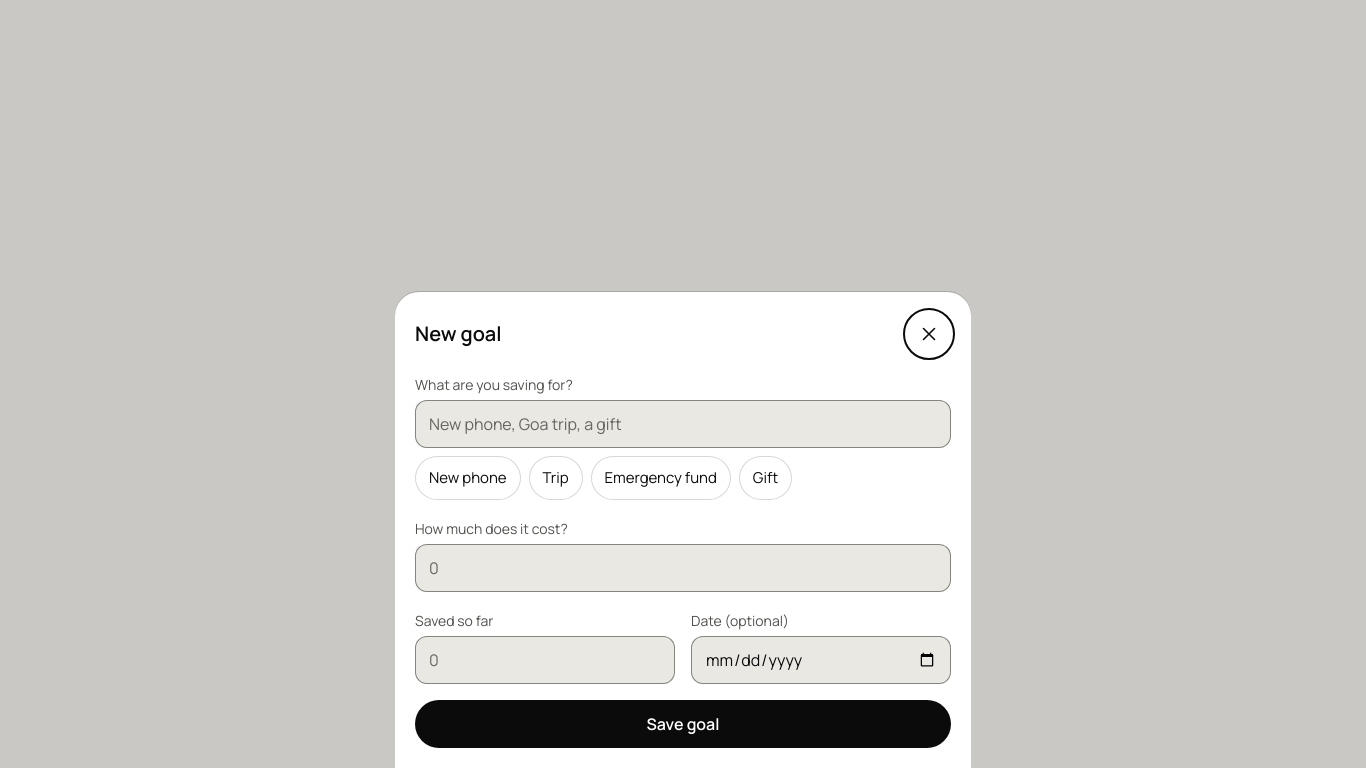
GoalSheet: making a goal › refuses no cost, says why, and saves nothing
This screenshot has width=1366, height=768.
Step 1. Type "Trip" into the field labelled "What are you saving for?" → (683, 424), box [415,400,951,448]
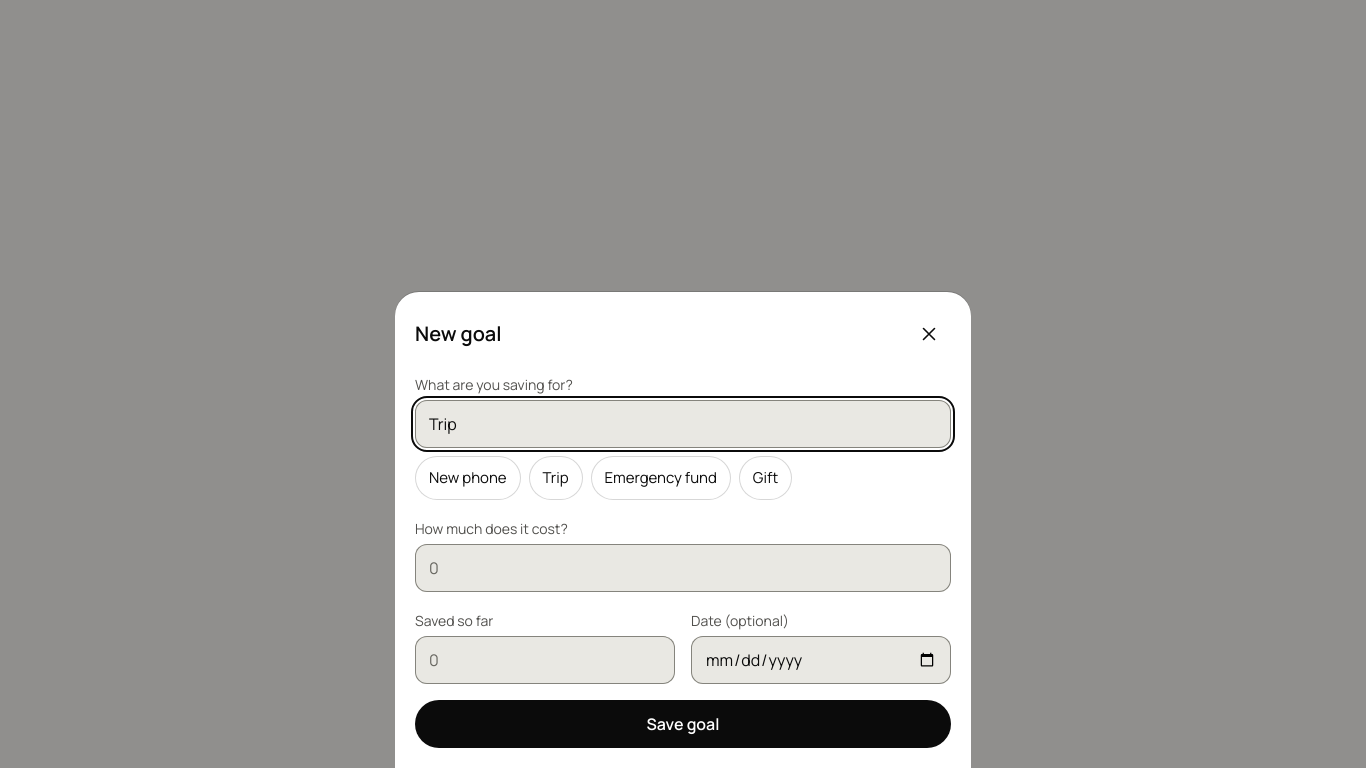
Step 2. Click the button "Save goal" → (683, 724), box [415,700,951,748]
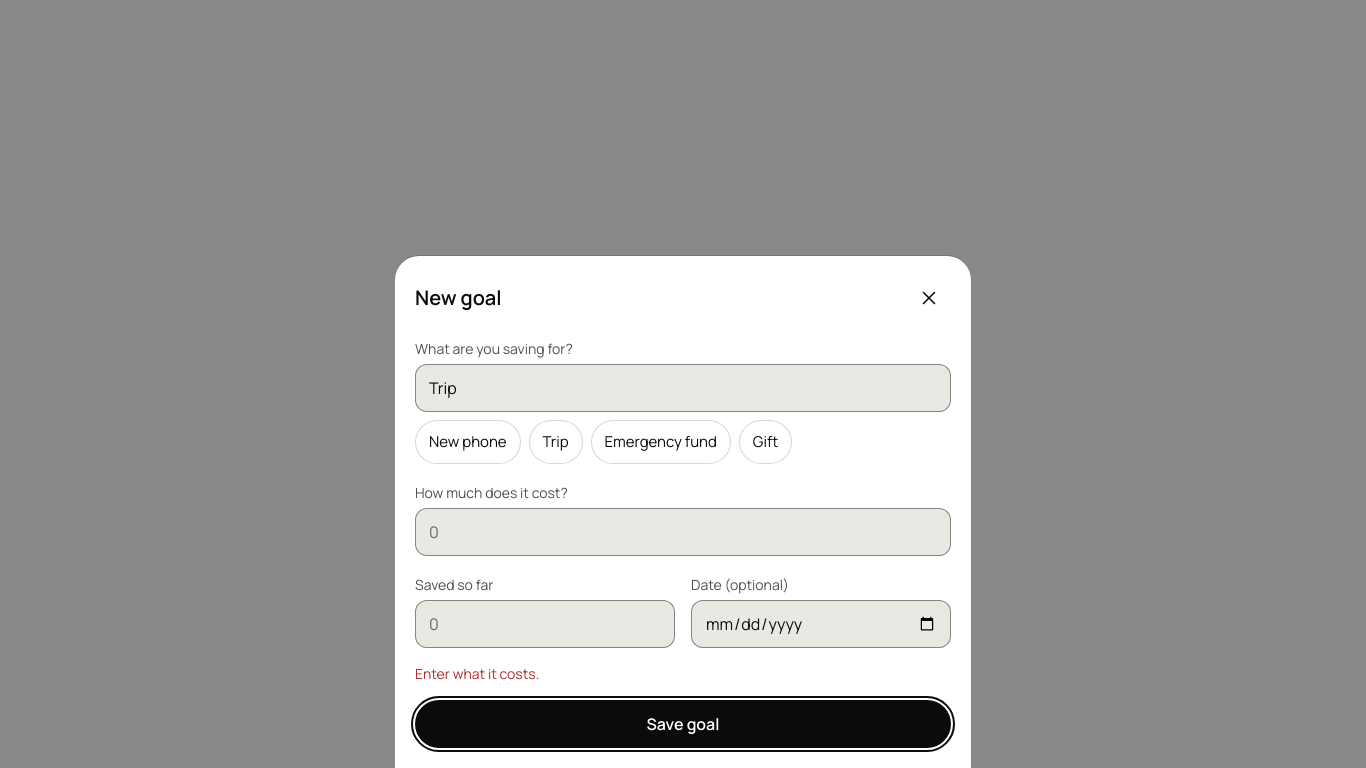
Check: the message reads "Enter what it costs.", box [415,664,539,683]
